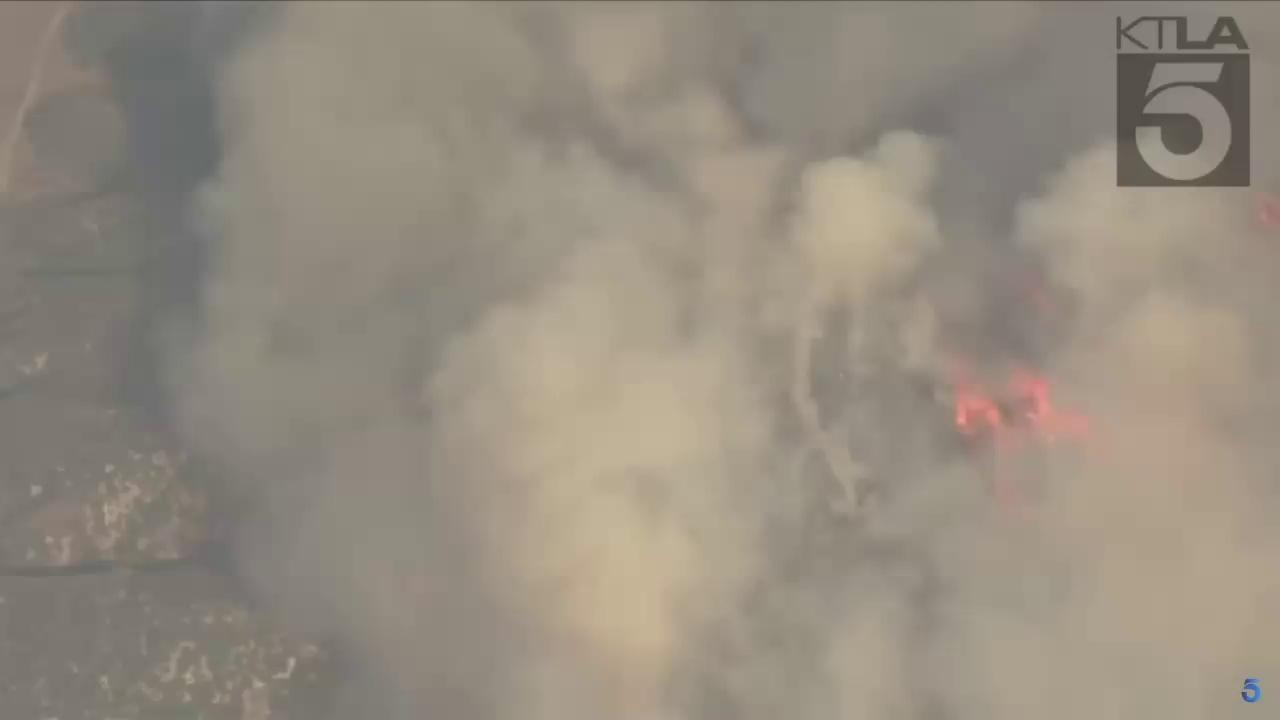fire: (950, 358, 1090, 510), (1252, 193, 1280, 226)
smoke: (147, 0, 1280, 720)
